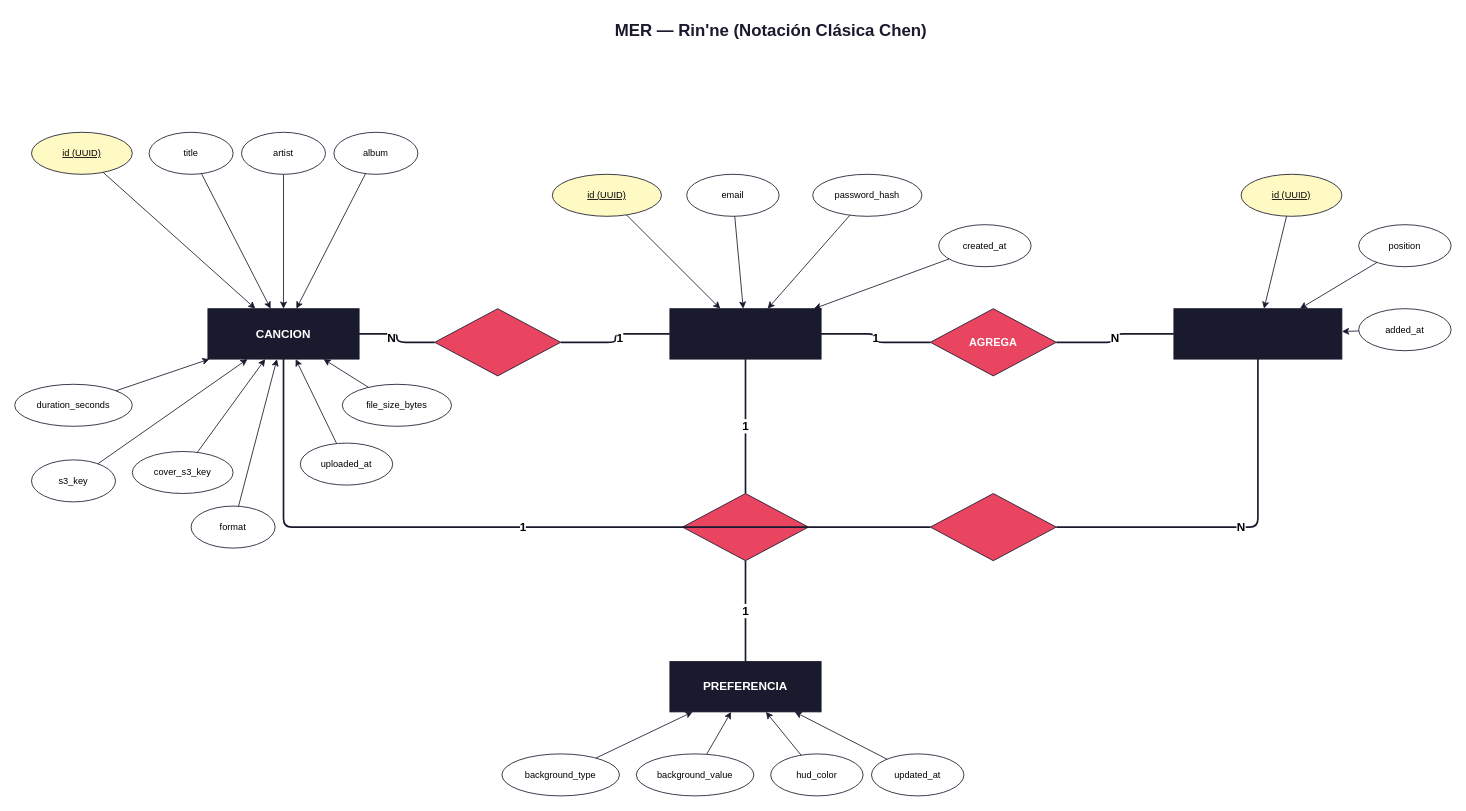
Image size: 1466x811. Some labels were removed from this diagram. Here are the shapes that lost their labels. From the top down, the centre of each, then its label:
At (x=497, y=342): "SUBE".
At (x=745, y=333): "USUARIO".
At (x=1257, y=333): "COLA_REPRODUCCION".
At (x=745, y=527): "CONFIGURA".
At (x=992, y=527): "CONTIENE".
